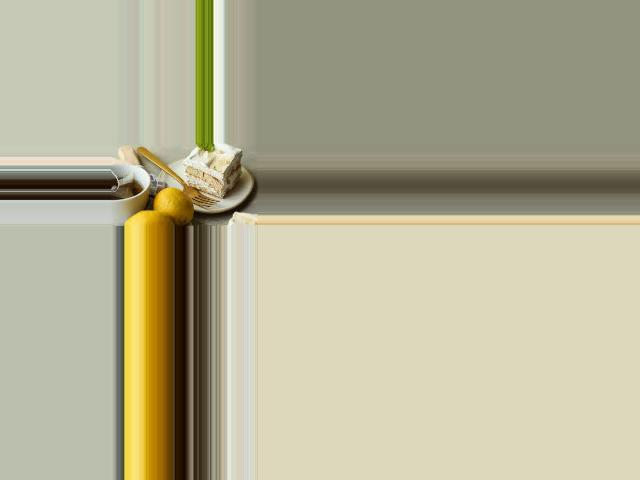lemon: (122, 209, 175, 227)
